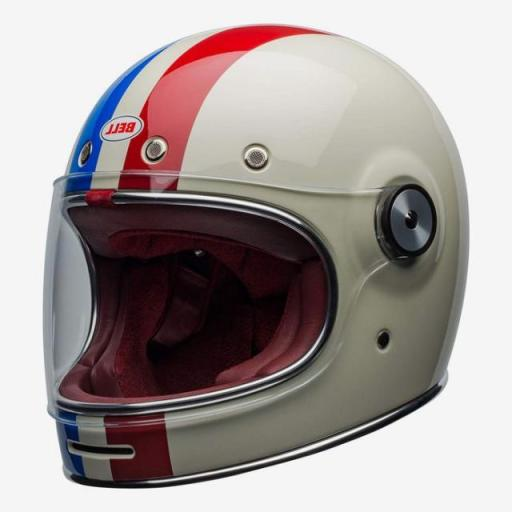Helmet: (45, 26, 467, 485)
